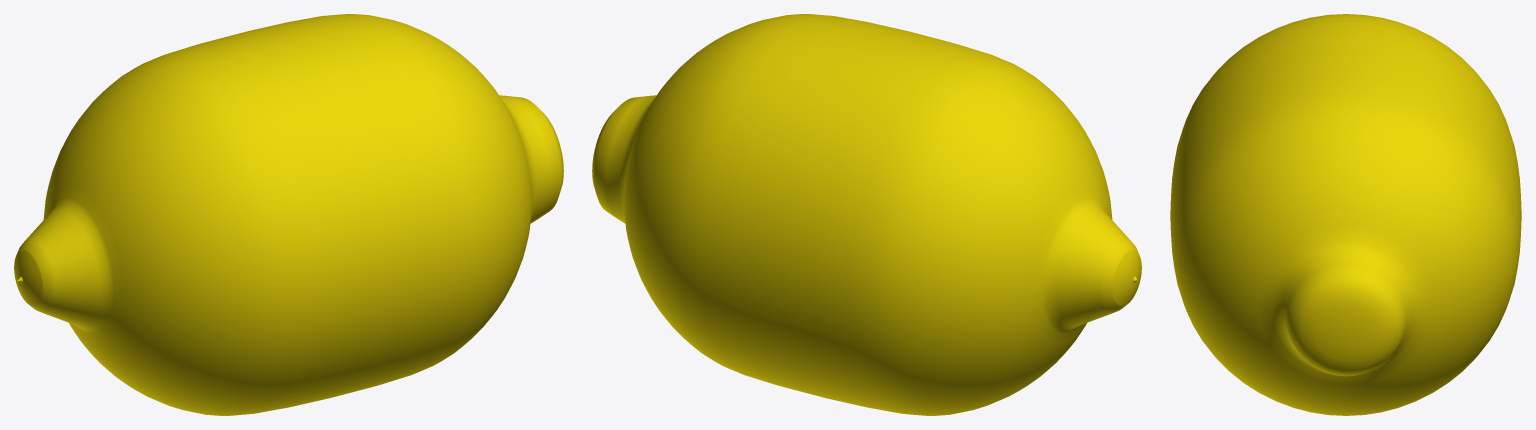
File: lemon_baked.fbx
3 renders of one model, left to right at view 1: azimuth 30°, elevation 25°; view 2: azimuth 150°, elevation 25°; view 3: azimuth 270°, elevation 25°, orthographic. The views are drawn at different scales.
Parts seen in each view (by area): view 1: Sphere; view 2: Sphere; view 3: Sphere.
Boxes of the visible parts, <box> form: Sphere: <box>14,14,563,415</box>; Sphere: <box>592,14,1141,415</box>; Sphere: <box>1170,14,1521,415</box>.
Bounding box in the file's own units: 128 × 78.93 × 78.93.
